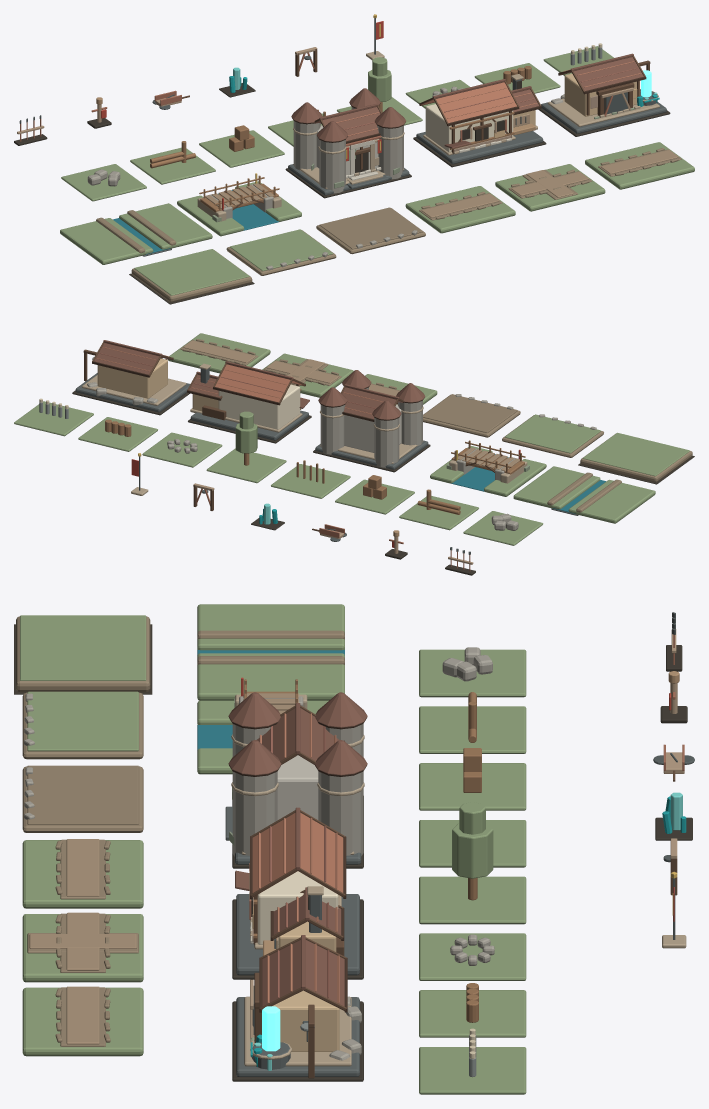
Rendered from salto_barrosan_production_slice.glb.
3 views of the same model, one above another, from view 1: azimuth 30°, elevation 25°; view 2: azimuth 150°, elevation 25°; view 3: azimuth 270°, elevation 25° (orthographic). The views are drawn at different scales.
Parts seen in each view (by area): view 1: TerrainBase_GrassCap, earth_patch_Surface, grass_patch_Surface, RiverTerrainLeft, RiverTerrainRight, road_straight_Terrain, road_bridge_connector_Terrain, Barracks_Roof_Plane_North, road_intersection_Terrain, prop_rock_cluster_Plinth, prop_crate_stack_Plinth, prop_log_stack_Plinth (+27 smaller); view 2: TerrainBase_GrassCap, grass_patch_Surface, earth_patch_Surface, Barracks_Wall, RiverTerrainLeft, RiverTerrainRight, Barracks_Roof_Plane_South, Mine_Hall, prop_tree_Plinth, prop_posts_Plinth, unit_scale_dummies_Plinth, prop_rubble_Plinth (+32 smaller); view 3: TerrainBase_GrassCap, grass_patch_Surface, earth_patch_Surface, RiverTerrainLeft, road_bridge_connector_Terrain, road_straight_Terrain, RiverTerrainRight, prop_tree_Plinth, unit_scale_dummies_Plinth, prop_log_stack_Plinth, prop_barrels_Plinth, prop_crate_stack_Plinth (+43 smaller).
Part boxes in pixels (bbox=[...]): TerrainBase_GrassCap: bbox=[134, 249, 249, 295]; earth_patch_Surface: bbox=[319, 207, 422, 249]; grass_patch_Surface: bbox=[230, 229, 333, 271]; RiverTerrainLeft: bbox=[60, 218, 153, 264]; RiverTerrainRight: bbox=[119, 203, 212, 249]; road_straight_Terrain: bbox=[405, 186, 515, 233]; road_bridge_connector_Terrain: bbox=[585, 142, 694, 189]; Barracks_Roof_Plane_North: bbox=[436, 82, 516, 122]; road_intersection_Terrain: bbox=[495, 164, 605, 211]; prop_rock_cluster_Plinth: bbox=[61, 164, 146, 201]; prop_crate_stack_Plinth: bbox=[199, 130, 284, 167]; prop_log_stack_Plinth: bbox=[130, 147, 215, 184]; TerrainBase_GrassCap: bbox=[582, 432, 689, 476]; grass_patch_Surface: bbox=[505, 414, 600, 453]; earth_patch_Surface: bbox=[423, 394, 517, 432]; Barracks_Wall: bbox=[218, 384, 300, 429]; RiverTerrainLeft: bbox=[568, 479, 655, 523]; RiverTerrainRight: bbox=[513, 466, 600, 510]; Barracks_Roof_Plane_South: bbox=[215, 364, 290, 402]; Mine_Hall: bbox=[97, 358, 167, 398]; prop_tree_Plinth: bbox=[206, 448, 286, 483]; prop_posts_Plinth: bbox=[271, 464, 350, 498]; unit_scale_dummies_Plinth: bbox=[14, 401, 93, 436]; prop_rubble_Plinth: bbox=[142, 432, 222, 467]; TerrainBase_GrassCap: bbox=[20, 615, 146, 680]; grass_patch_Surface: bbox=[27, 691, 138, 751]; earth_patch_Surface: bbox=[27, 765, 138, 824]; RiverTerrainLeft: bbox=[197, 604, 344, 650]; road_bridge_connector_Terrain: bbox=[22, 987, 143, 1056]; road_straight_Terrain: bbox=[22, 840, 143, 908]; RiverTerrainRight: bbox=[197, 653, 344, 700]; prop_tree_Plinth: bbox=[419, 876, 526, 924]; unit_scale_dummies_Plinth: bbox=[419, 1047, 526, 1094]; prop_log_stack_Plinth: bbox=[419, 706, 526, 753]; prop_barrels_Plinth: bbox=[419, 990, 526, 1037]; prop_crate_stack_Plinth: bbox=[419, 763, 526, 810].
Bounding box in the file's own units: 86 × 10.25 × 50.7.
